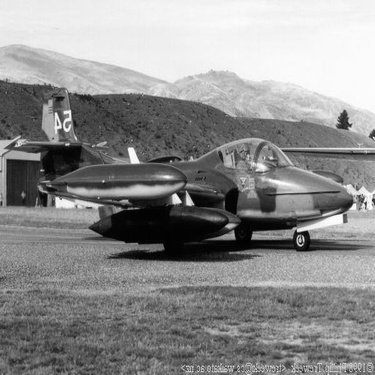airplane: (1, 80, 362, 262)
